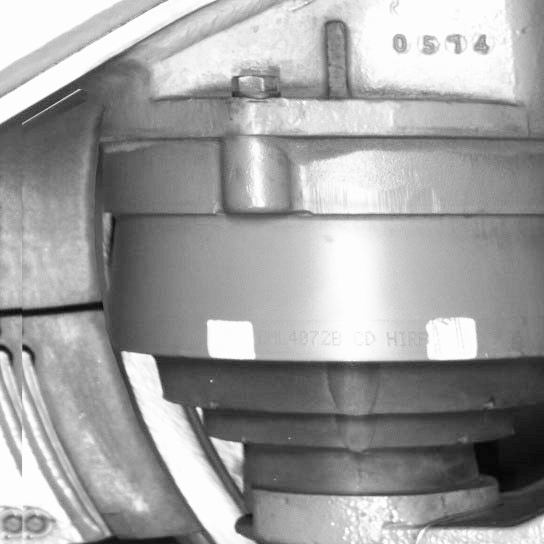ClosedKnifeSwitch: (24, 137, 222, 541)
